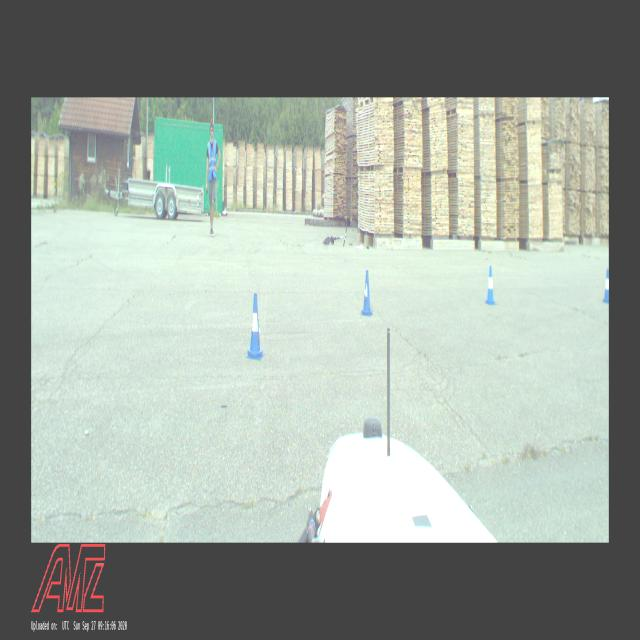blue_cone: (246, 294, 264, 361), (360, 270, 374, 316), (484, 266, 496, 304), (602, 268, 608, 304)
